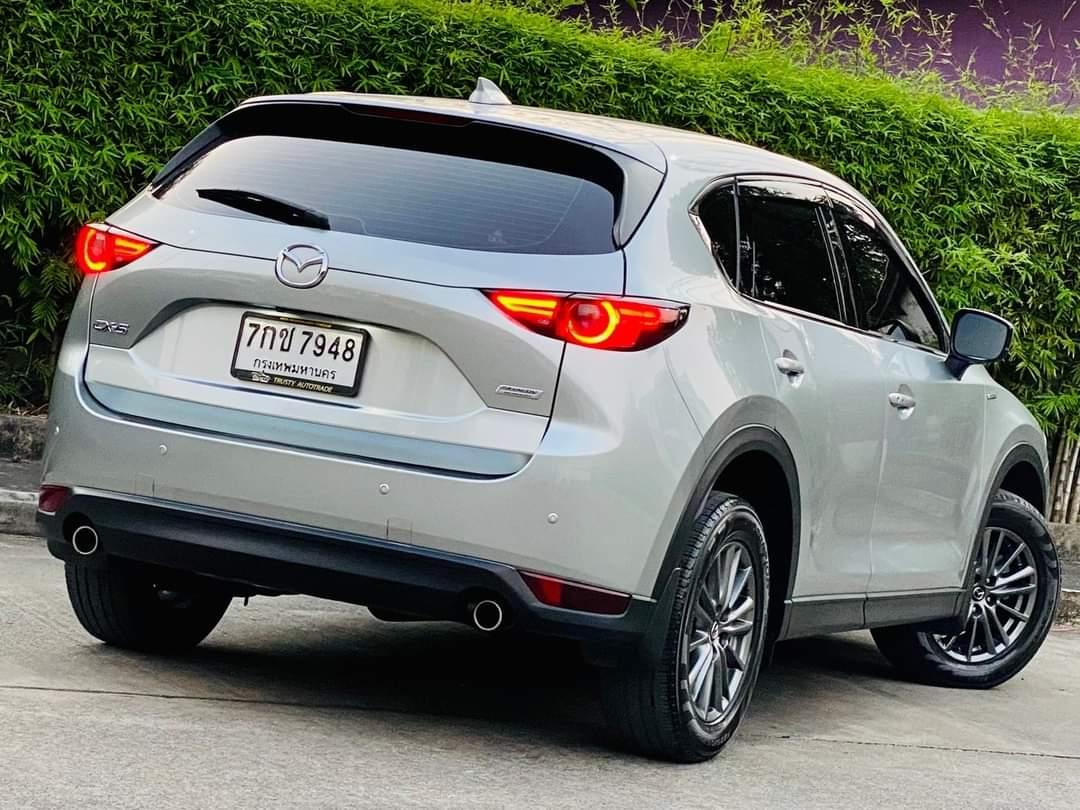license-plate: (227, 298, 371, 401)
